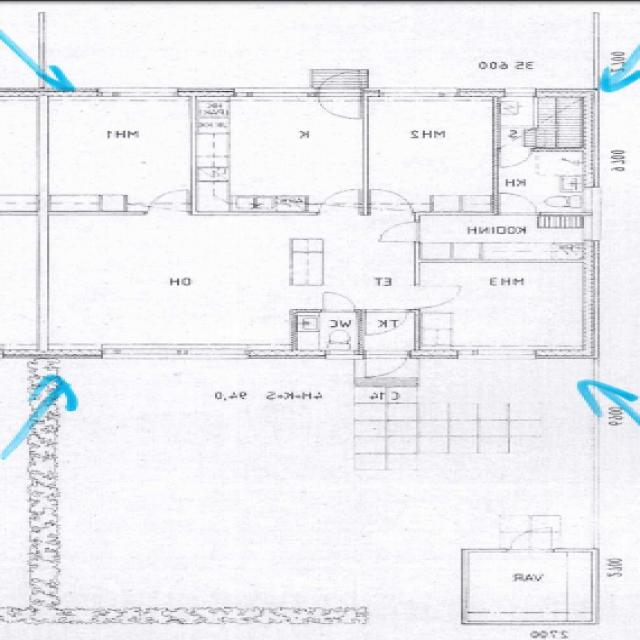door: (367, 349, 410, 383), (507, 523, 554, 552), (315, 66, 358, 96), (315, 89, 358, 119), (144, 188, 186, 215), (366, 310, 408, 336), (317, 190, 358, 215), (416, 286, 462, 308), (372, 190, 412, 215), (501, 192, 537, 215), (379, 222, 422, 241), (502, 147, 533, 168), (322, 293, 353, 313)
